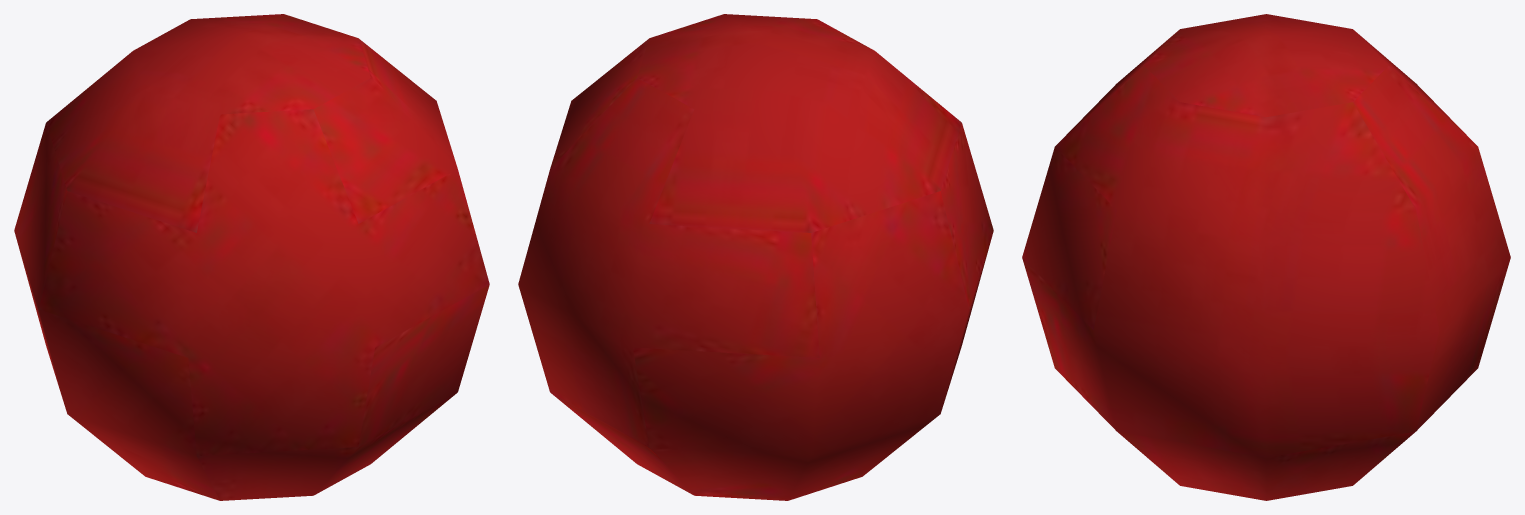
File: ball_lod1_web.glb
The picture shows the model from 3 angles, left to right: view 1: azimuth 30°, elevation 25°; view 2: azimuth 150°, elevation 25°; view 3: azimuth 270°, elevation 25°; orthographic projection.
Parts seen in each view (by area): view 1: Ball_Body; view 2: Ball_Body; view 3: Ball_Body.
Part boxes in pixels (x1=…): Ball_Body: x1=14, y1=14, x2=489, y2=500; Ball_Body: x1=518, y1=14, x2=993, y2=500; Ball_Body: x1=1022, y1=14, x2=1510, y2=500.
Bounding box in the file's own units: 0.2 × 0.2 × 0.2.
Materials: 1 (1 with a texture image).
